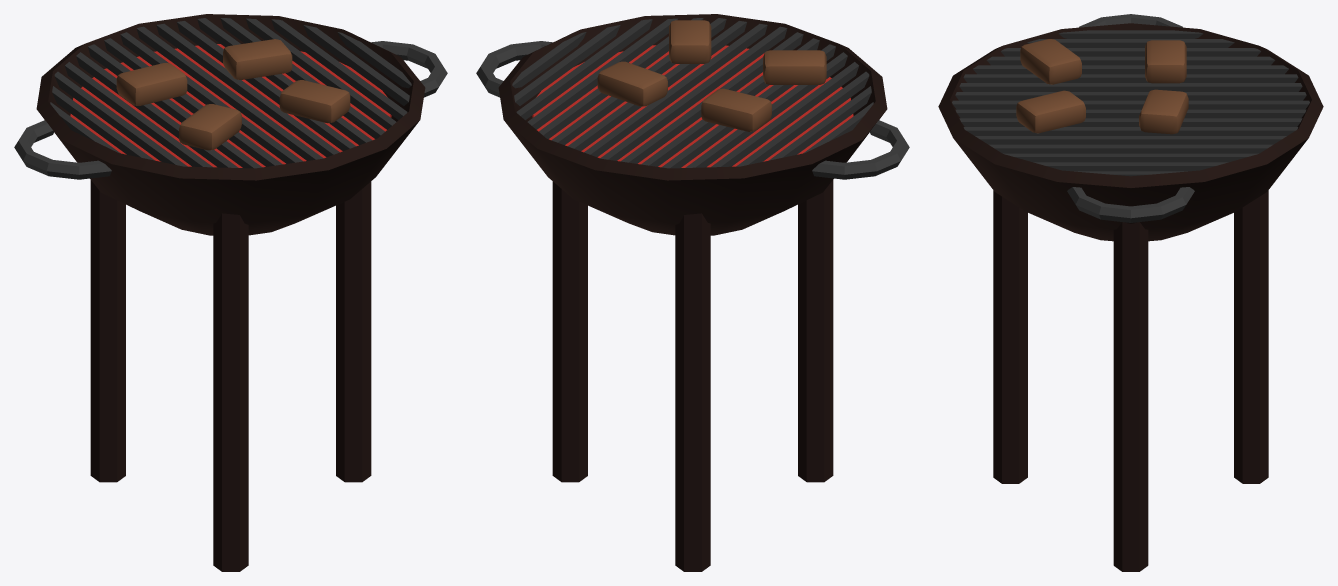
File: grill.fbx
3 renders of one model, left to right at view 1: azimuth 30°, elevation 25°; view 2: azimuth 150°, elevation 25°; view 3: azimuth 270°, elevation 25°, orthographic.
Visible parts, largest first — view 1: grill; view 2: grill; view 3: grill.
Boxes of the visible parts, bbox=[...] form: grill: bbox=[14, 14, 447, 571]; grill: bbox=[476, 14, 909, 571]; grill: bbox=[938, 14, 1323, 571].
Size of the model in its own units: 0.6792 by 0.6775 by 0.5543.
1 material, 1 textured.
